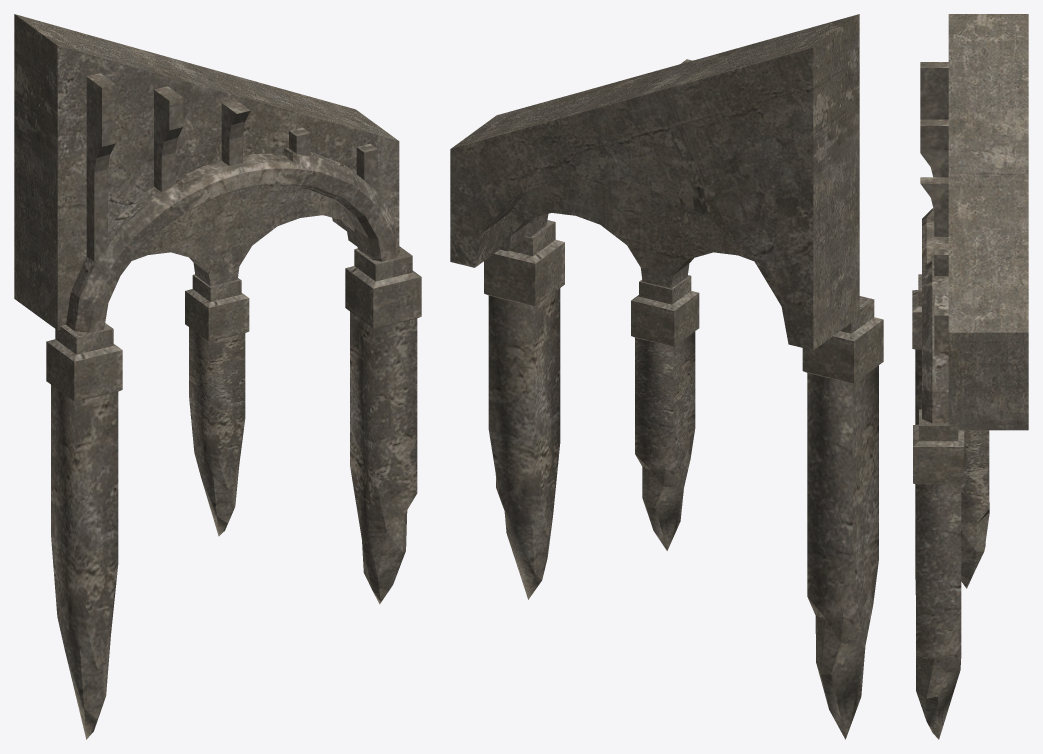
The model's file is bg_lut_lutomb_arch04_sm_old.FBX.
3 renders of one model, left to right at view 1: azimuth 30°, elevation 25°; view 2: azimuth 150°, elevation 25°; view 3: azimuth 270°, elevation 25°, orthographic. The views are drawn at different scales.
Parts seen in each view (by area): view 1: bg_lut_lutomb_arch04_sm_old; view 2: bg_lut_lutomb_arch04_sm_old; view 3: bg_lut_lutomb_arch04_sm_old.
Boxes of the visible parts, left/top/right/bottom form: bg_lut_lutomb_arch04_sm_old: left=14, top=14, right=421, bottom=739; bg_lut_lutomb_arch04_sm_old: left=450, top=14, right=883, bottom=739; bg_lut_lutomb_arch04_sm_old: left=912, top=14, right=1028, bottom=739.
Size of the model in its own units: 261 by 497 by 81.8.
